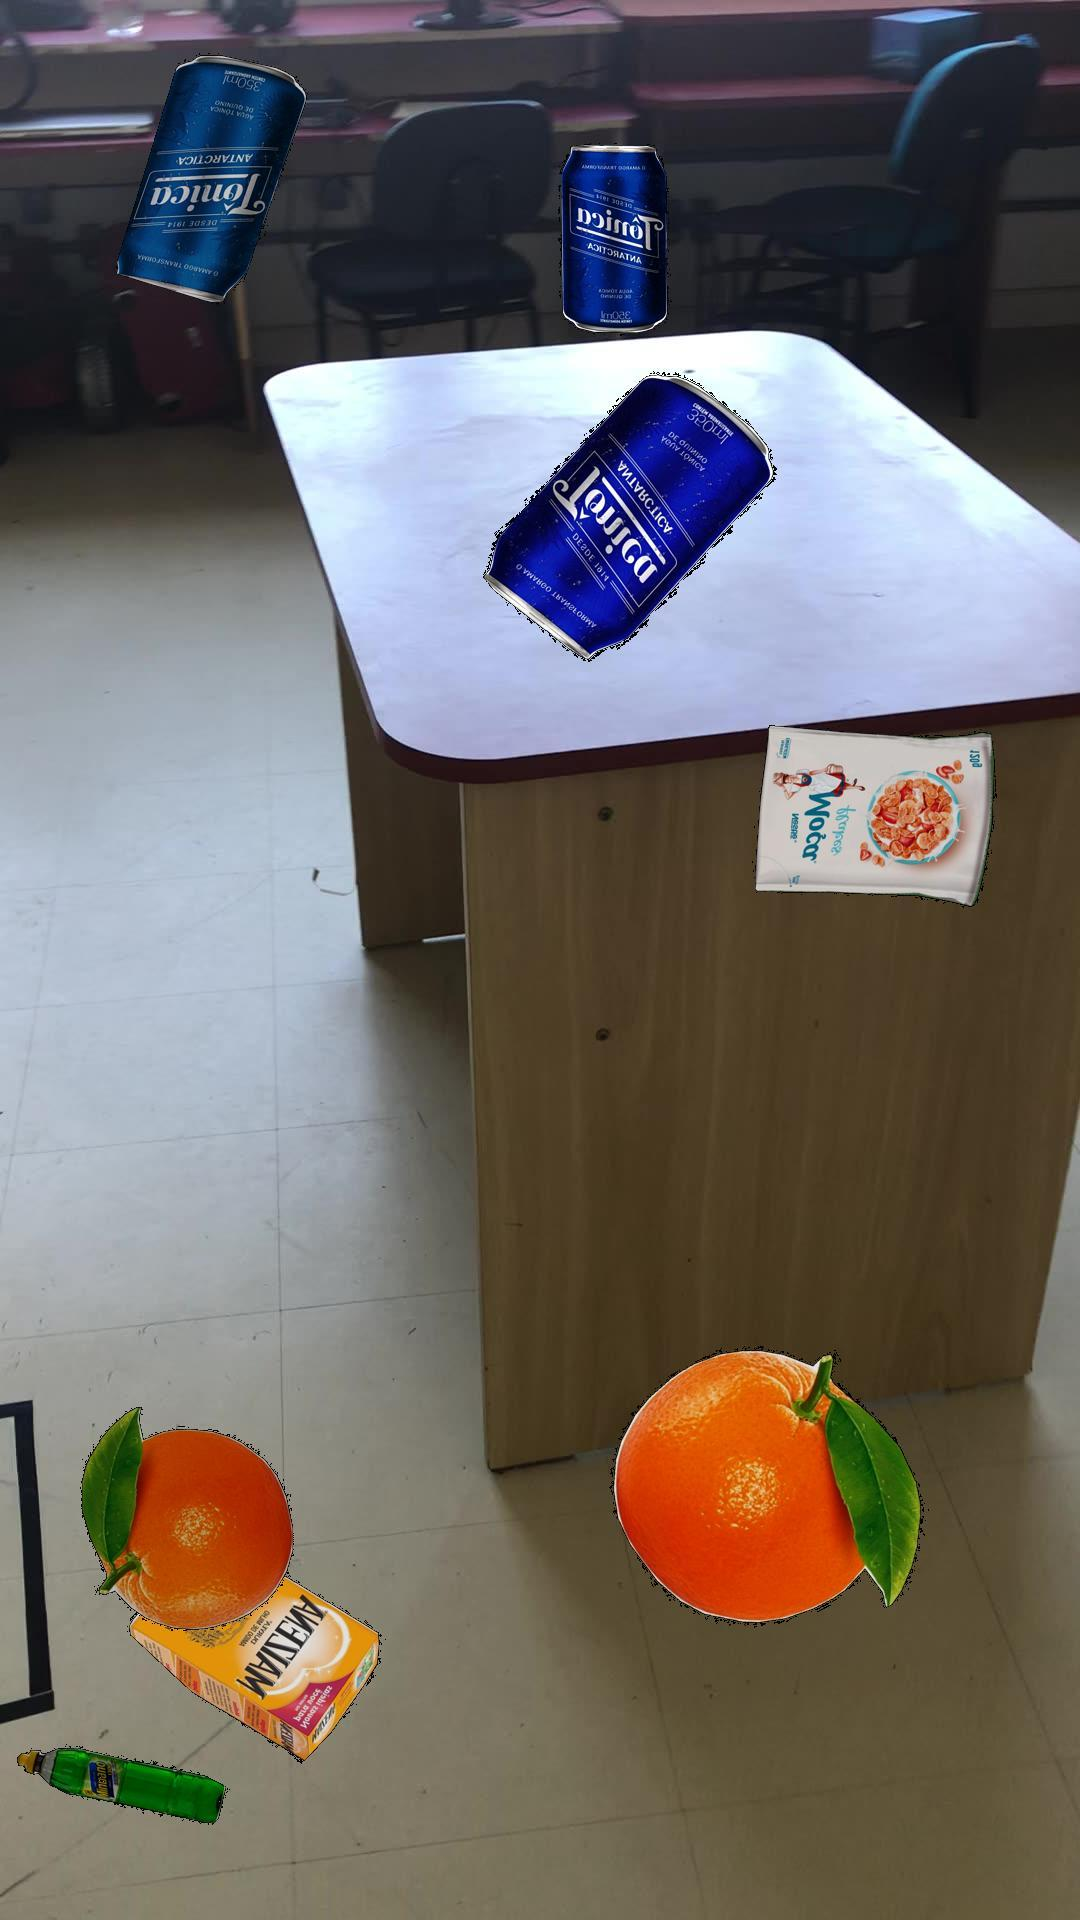cleaner: (16, 1745, 224, 1824)
corn flakes: (753, 724, 994, 906)
orange: (608, 1345, 922, 1625), (79, 1406, 293, 1630)
tonic: (481, 371, 775, 661), (115, 54, 306, 302), (556, 141, 667, 331)
